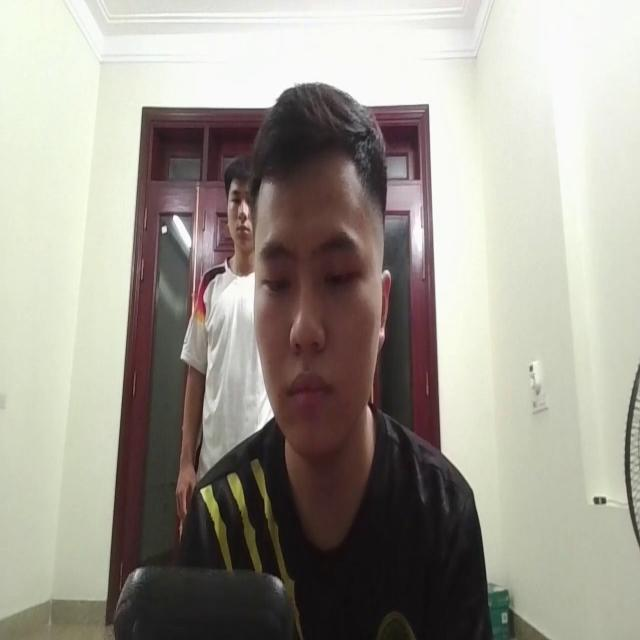extra_person: (172, 132, 258, 470)
phone: (111, 543, 288, 640)
student: (185, 73, 485, 640)
